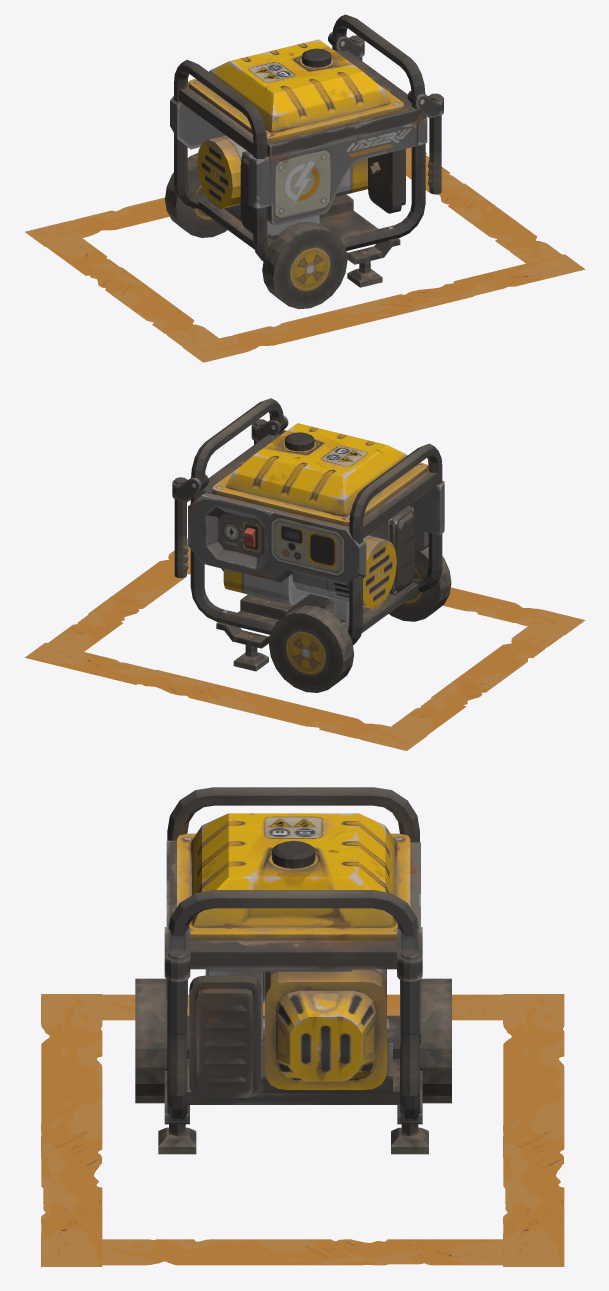
Rendered from P_Facility_00174.obj.
3 views of the same model, one above another, from view 1: azimuth 30°, elevation 25°; view 2: azimuth 150°, elevation 25°; view 3: azimuth 270°, elevation 25° (orthographic). The views are drawn at different scales.
Size of the model in its own units: 2.16 by 1.01 by 1.8.
5 materials, 5 textured.
